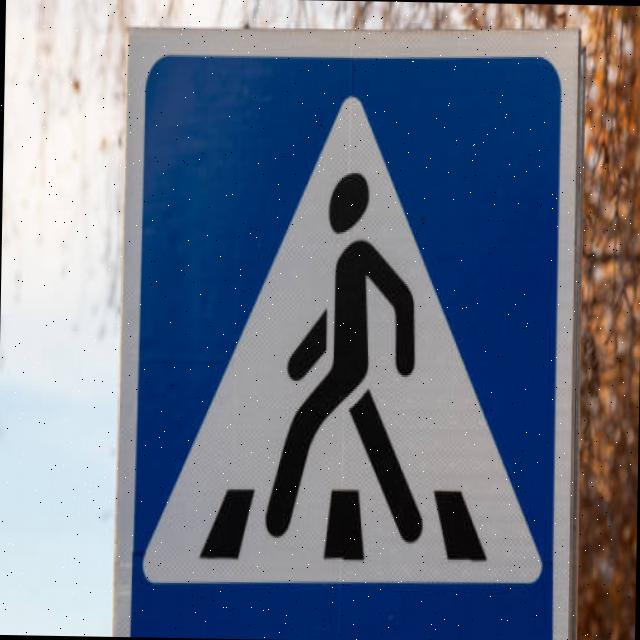crosswalk: (89, 3, 601, 640)
